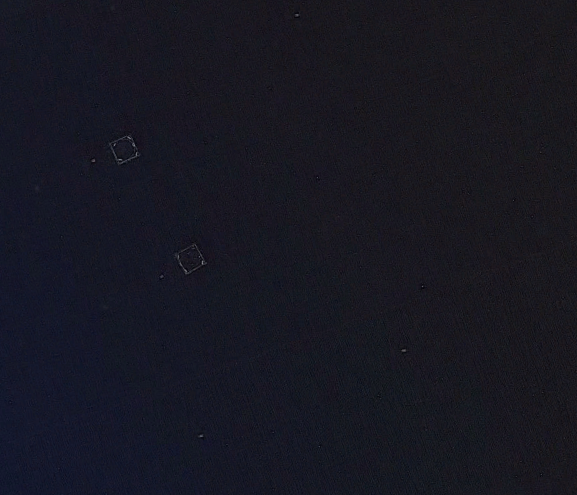square: (168, 233, 214, 280), (100, 125, 147, 169)
